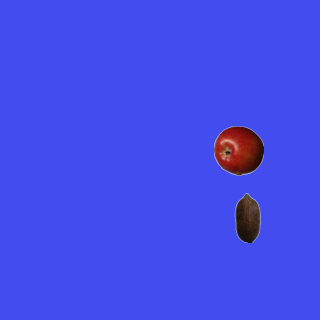Apple Braeburn: (213, 125, 263, 175)
Nut Pecan: (222, 192, 272, 242)
